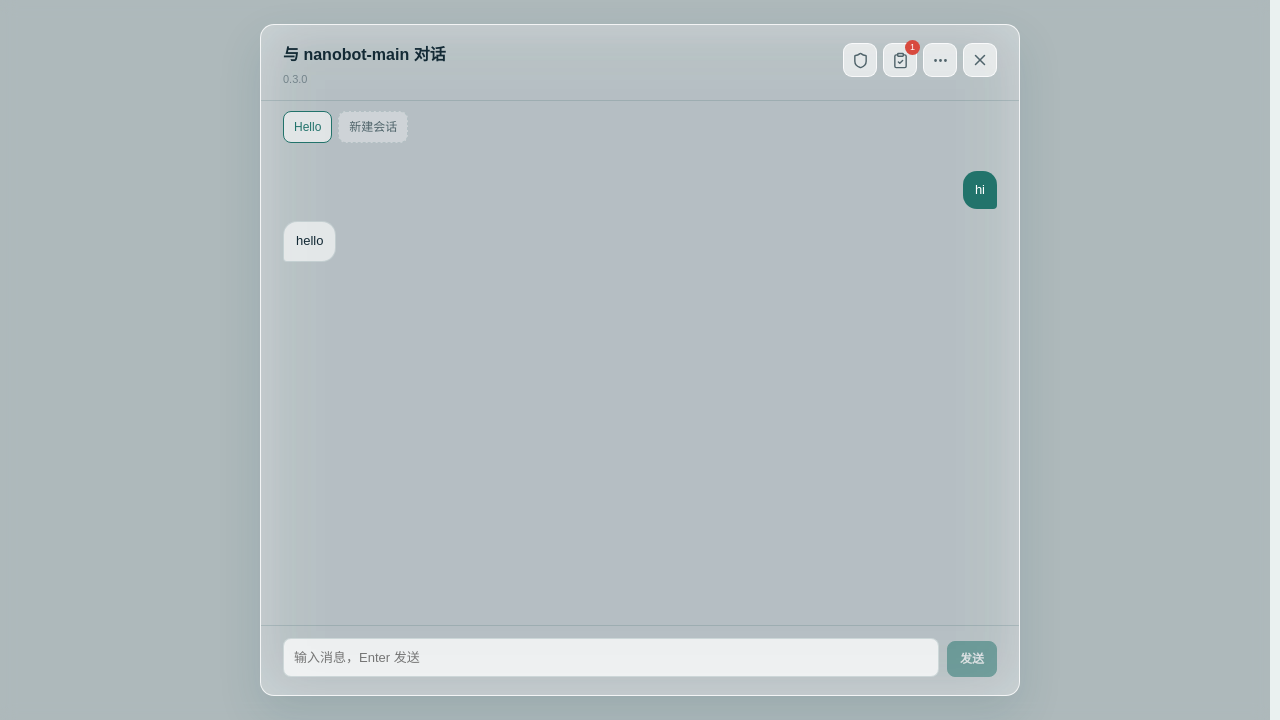
Scenario: ChatDrawer › shows and resolves pending operations in the chat approval panel
Expected: the text with class "chat-action-count" reads "1", [910,42,915,52]
Click the button named "待审批操作" at (900, 60), box [883,43,917,77]
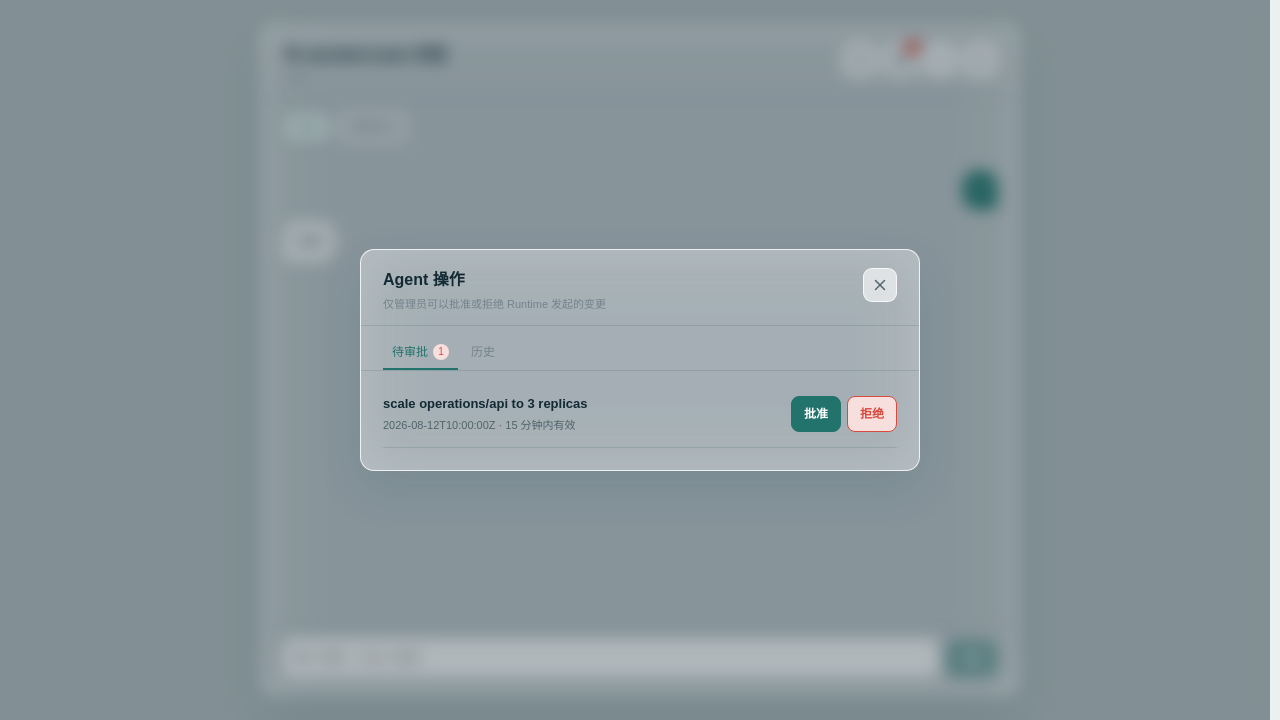
Expected: the text "scale operations/api to 3 replicas" is shown, [383,394,588,413]
Click the button "批准" at (816, 414), box [791,396,841,432]
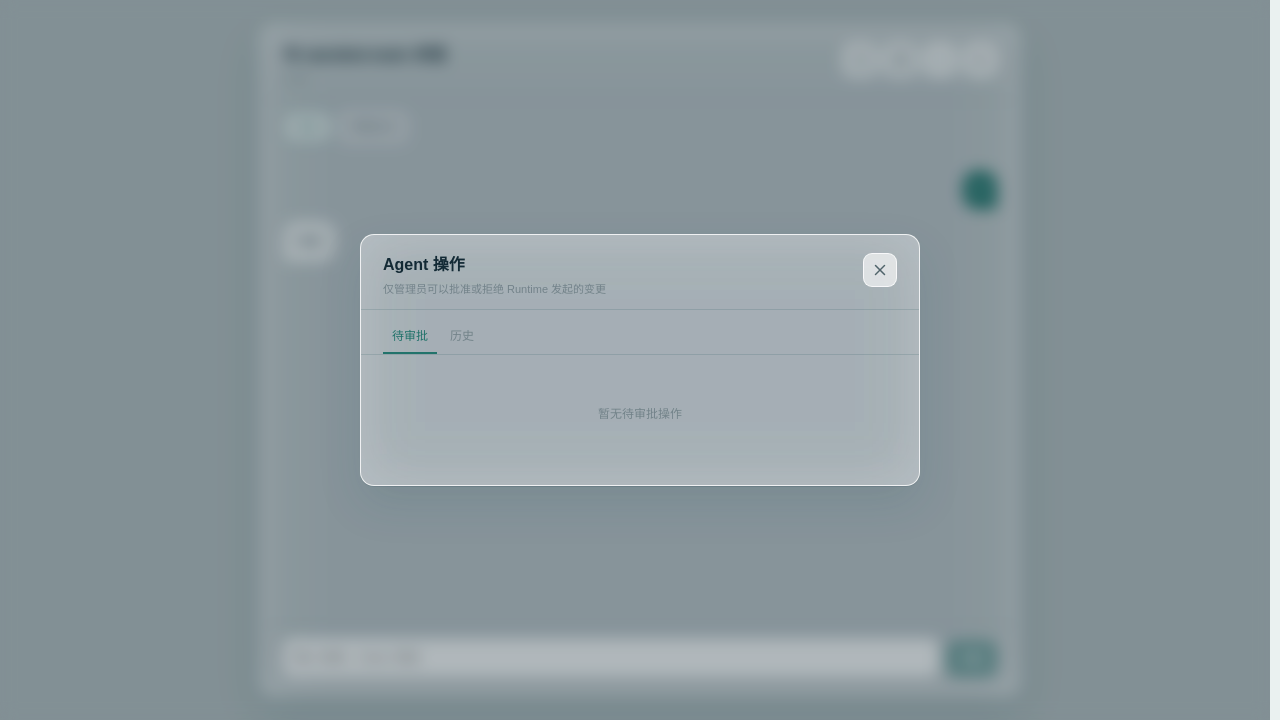
Expected: the text "暂无待审批操作" is shown, [598,407,682,421]
